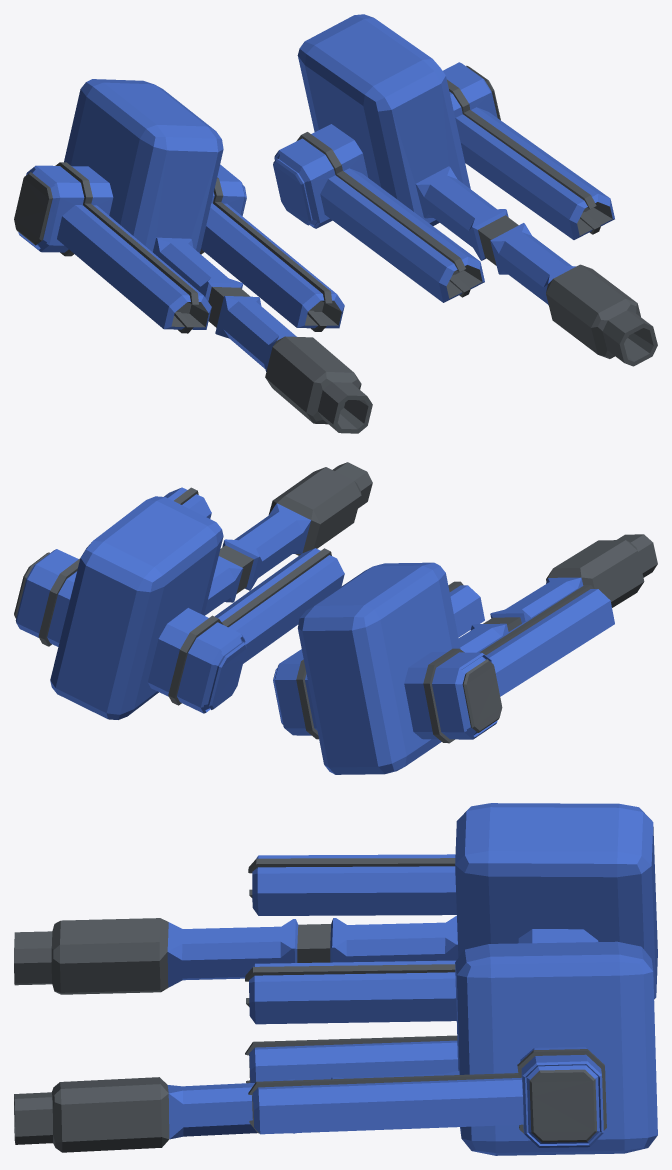
Rendered from Fighter_09_Artillery_Blue.fbx.
3 renders of one model, top to bottom at view 1: azimuth 30°, elevation 25°; view 2: azimuth 150°, elevation 25°; view 3: azimuth 270°, elevation 25°, orthographic. The views are drawn at different scales.
Parts seen in each view (by area): view 1: Fighter_09_Artillery_Blue; view 2: Fighter_09_Artillery_Blue; view 3: Fighter_09_Artillery_Blue.
Boxes of the visible parts, bbox=[...] form: Fighter_09_Artillery_Blue: bbox=[14, 14, 657, 433]; Fighter_09_Artillery_Blue: bbox=[14, 462, 657, 774]; Fighter_09_Artillery_Blue: bbox=[14, 803, 657, 1155].
Size of the model in its own units: 303 by 106 by 315.
1 material, 1 textured.
